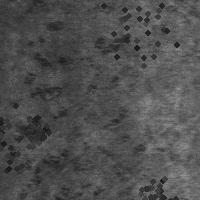rolled-in_scale: (14, 66, 121, 199), (17, 18, 145, 101), (90, 0, 196, 78), (0, 85, 65, 200), (114, 104, 192, 189), (122, 165, 192, 200), (11, 107, 53, 149)
